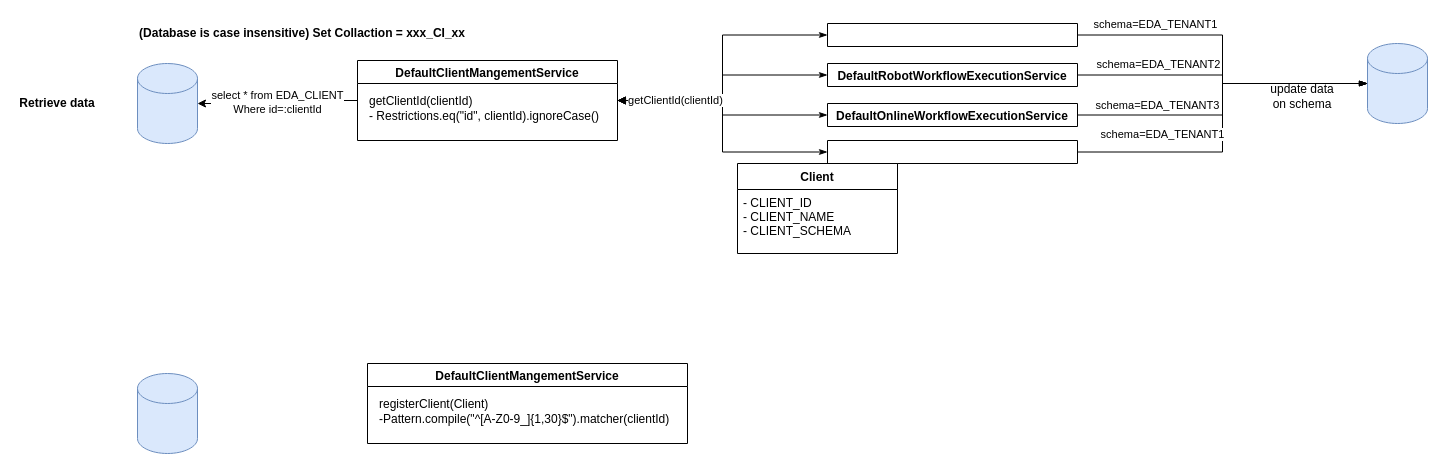
Image size: 1445x471. Some labels were removed from this diagram. Here are the shapes that lost their labels. From the top down, the centre of each, then its label:
At (952,34): "DefaultWebWorkflowExecutionService".
At (952,152): "DefaultBatchWorkflowExecutionService".
